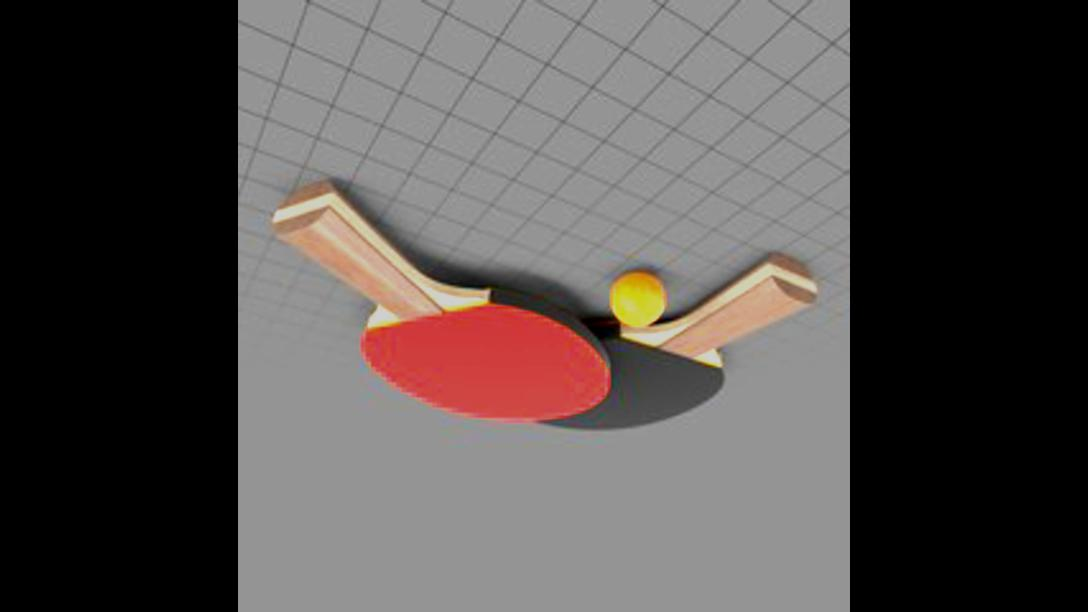Table-Tennis-Ball: (612, 274, 665, 328)
